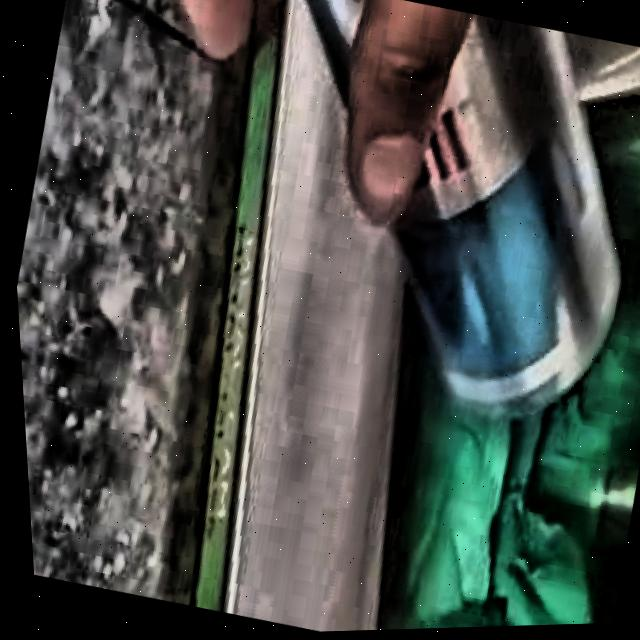metal: (393, 16, 617, 417)
